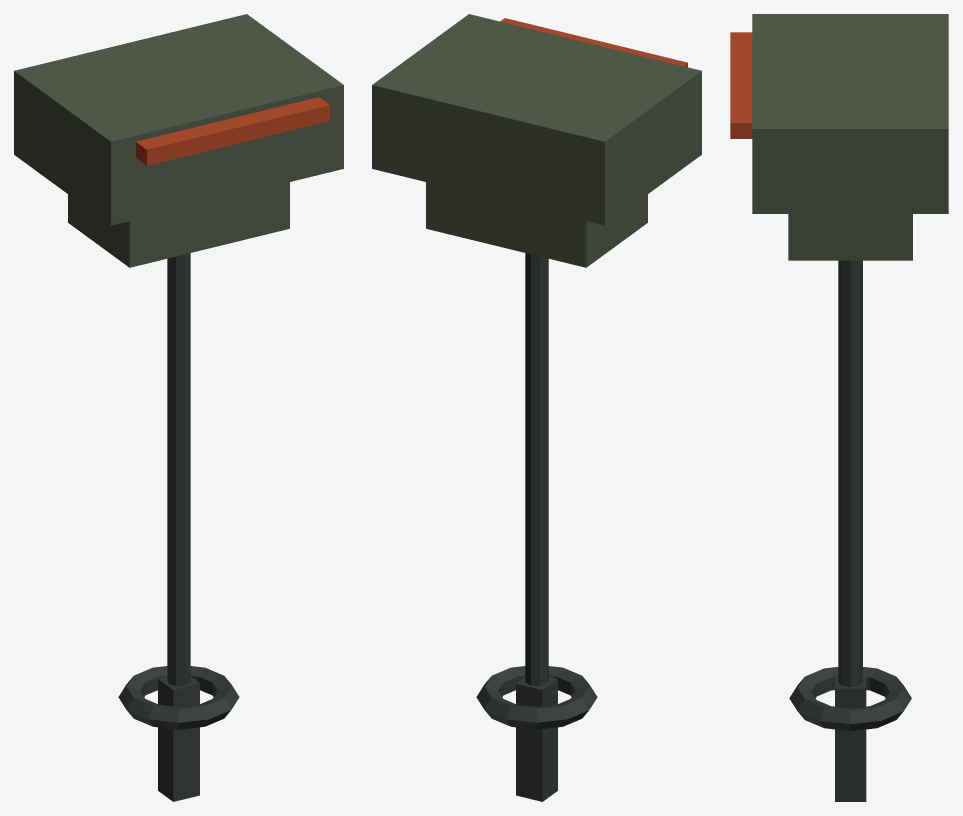
Rendered from Bastion_FabricationHub_CraneTrolley.obj.
3 views of the same model, side by side, from view 1: azimuth 30°, elevation 25°; view 2: azimuth 150°, elevation 25°; view 3: azimuth 270°, elevation 25° (orthographic).
Visible parts, largest first — view 1: Bastion_FabricationHub_CraneTrolley; view 2: Bastion_FabricationHub_CraneTrolley; view 3: Bastion_FabricationHub_CraneTrolley.
Boxes of the visible parts, bbox=[...] form: Bastion_FabricationHub_CraneTrolley: bbox=[14, 14, 343, 801]; Bastion_FabricationHub_CraneTrolley: bbox=[372, 14, 701, 801]; Bastion_FabricationHub_CraneTrolley: bbox=[730, 14, 948, 801].
Bounding box in the file's own units: 1.22 × 3.58 × 0.98.
Materials: 1 (1 with a texture image).
